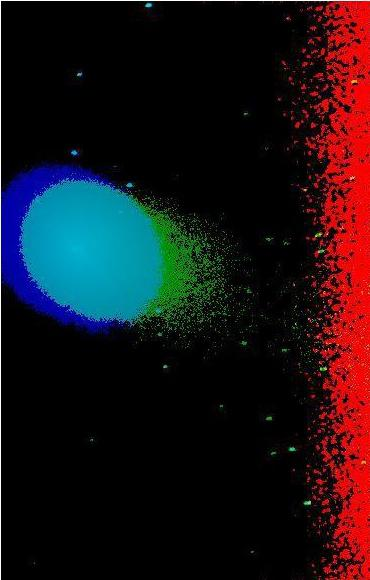star: (128, 476, 158, 506)
